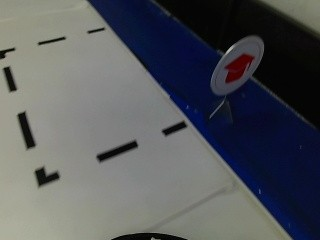school: (210, 36, 267, 97)
